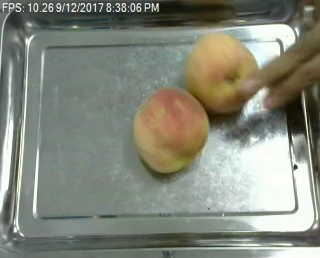Peach: (133, 86, 209, 173), (184, 29, 261, 112)
